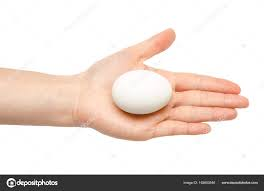egg: (112, 71, 172, 112)
